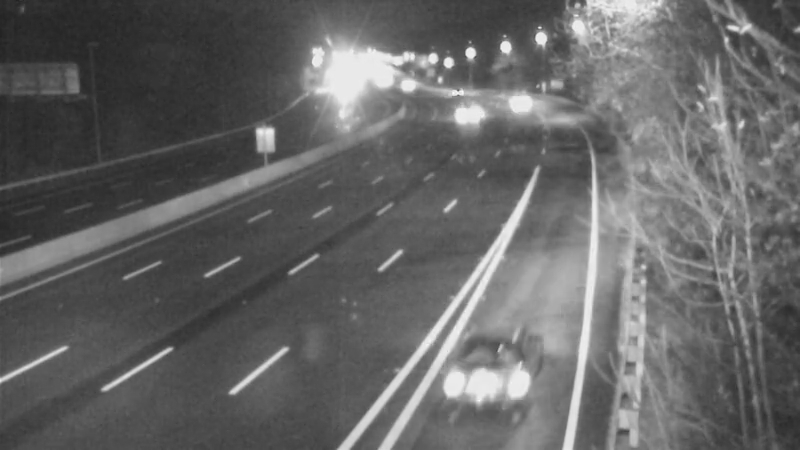vehicle: (427, 326, 537, 436), (380, 59, 430, 109), (430, 68, 480, 118), (492, 77, 542, 127), (435, 95, 485, 145)
